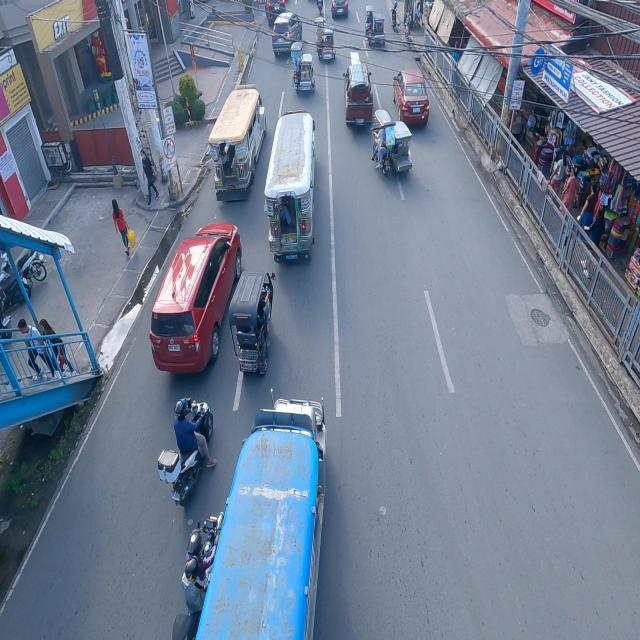Truck: (342, 55, 374, 126)
